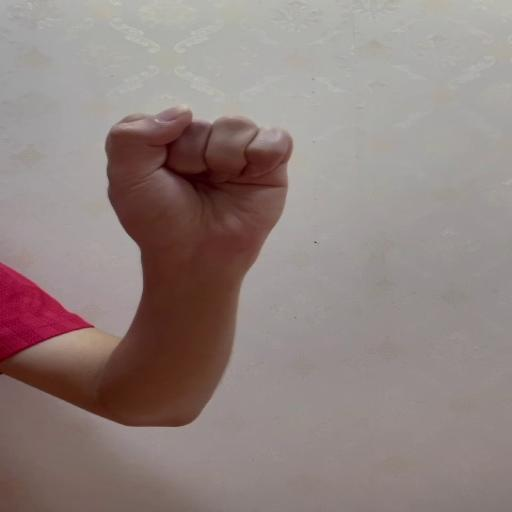fist: (103, 104, 296, 251)
